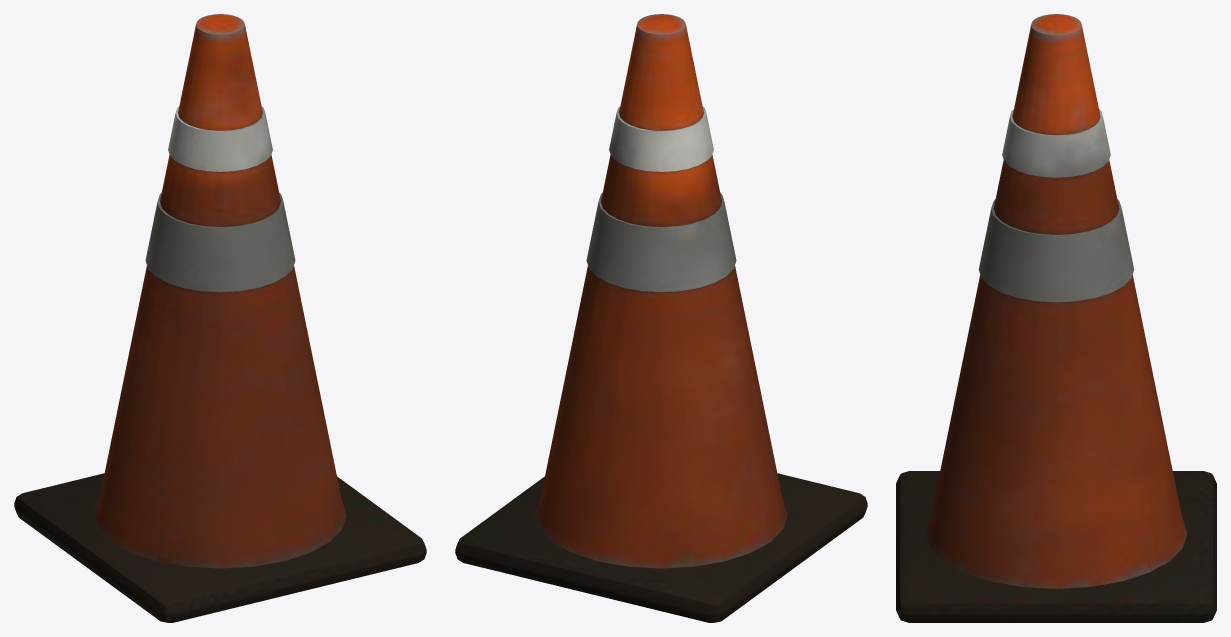
The model's file is traffic_cone.glb.
3 renders of one model, left to right at view 1: azimuth 30°, elevation 25°; view 2: azimuth 150°, elevation 25°; view 3: azimuth 270°, elevation 25°, orthographic. The views are drawn at different scales.
Parts seen in each view (by area): view 1: traffic_cone; view 2: traffic_cone; view 3: traffic_cone.
Boxes of the visible parts, x1=… form: traffic_cone: x1=14, y1=14, x2=426, y2=622; traffic_cone: x1=455, y1=14, x2=867, y2=622; traffic_cone: x1=896, y1=14, x2=1216, y2=622.
Size of what is drawn, in the model's own units: 0.38 by 0.705 by 0.38.
1 material, 1 textured.
